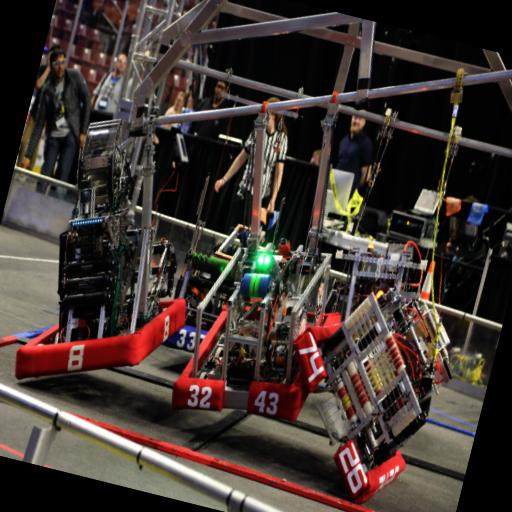robot: (257, 97, 510, 512), (168, 67, 382, 441), (12, 72, 237, 406), (158, 85, 306, 369)
